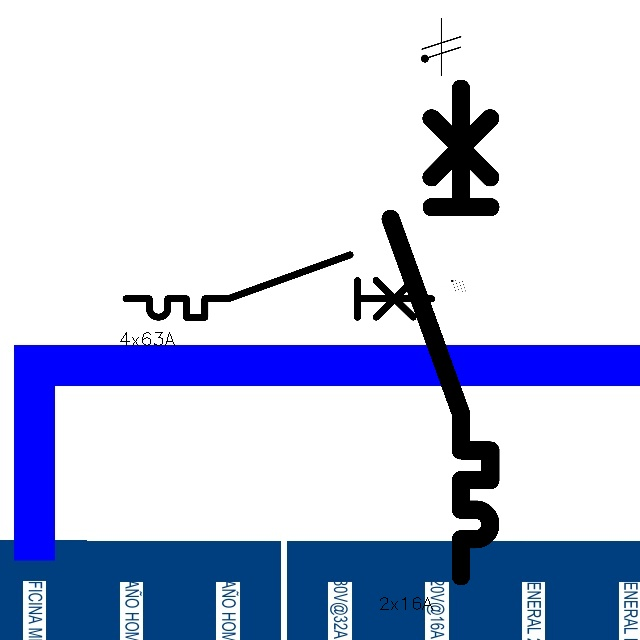interruptor_termomagnetico: (378, 76, 503, 589), (118, 247, 439, 325)
